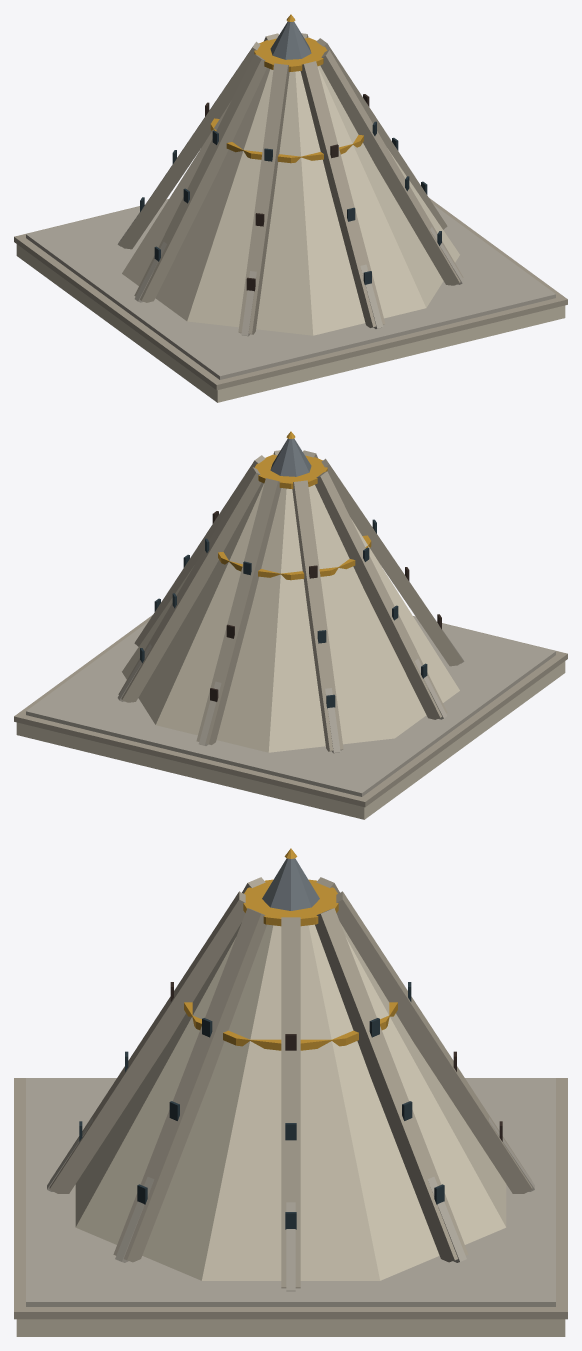
The model's file is tw_landmark_spire.glb.
3 renders of one model, top to bottom at view 1: azimuth 30°, elevation 25°; view 2: azimuth 150°, elevation 25°; view 3: azimuth 270°, elevation 25°, orthographic. The views are drawn at different scales.
Visible parts, largest first — view 1: tw_landmark_spire; view 2: tw_landmark_spire; view 3: tw_landmark_spire.
Part boxes in pixels (x1,y1,x2,y2): tw_landmark_spire: (14, 14, 567, 402); tw_landmark_spire: (14, 431, 567, 819); tw_landmark_spire: (14, 848, 567, 1336).
Bounding box in the file's own units: 24.24 × 18 × 24.24.
Materials: 2 (2 with a texture image).
